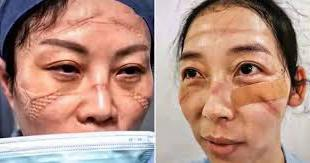mask_weared_incorrect: (17, 35, 149, 158)
without_mask: (179, 40, 274, 160)
